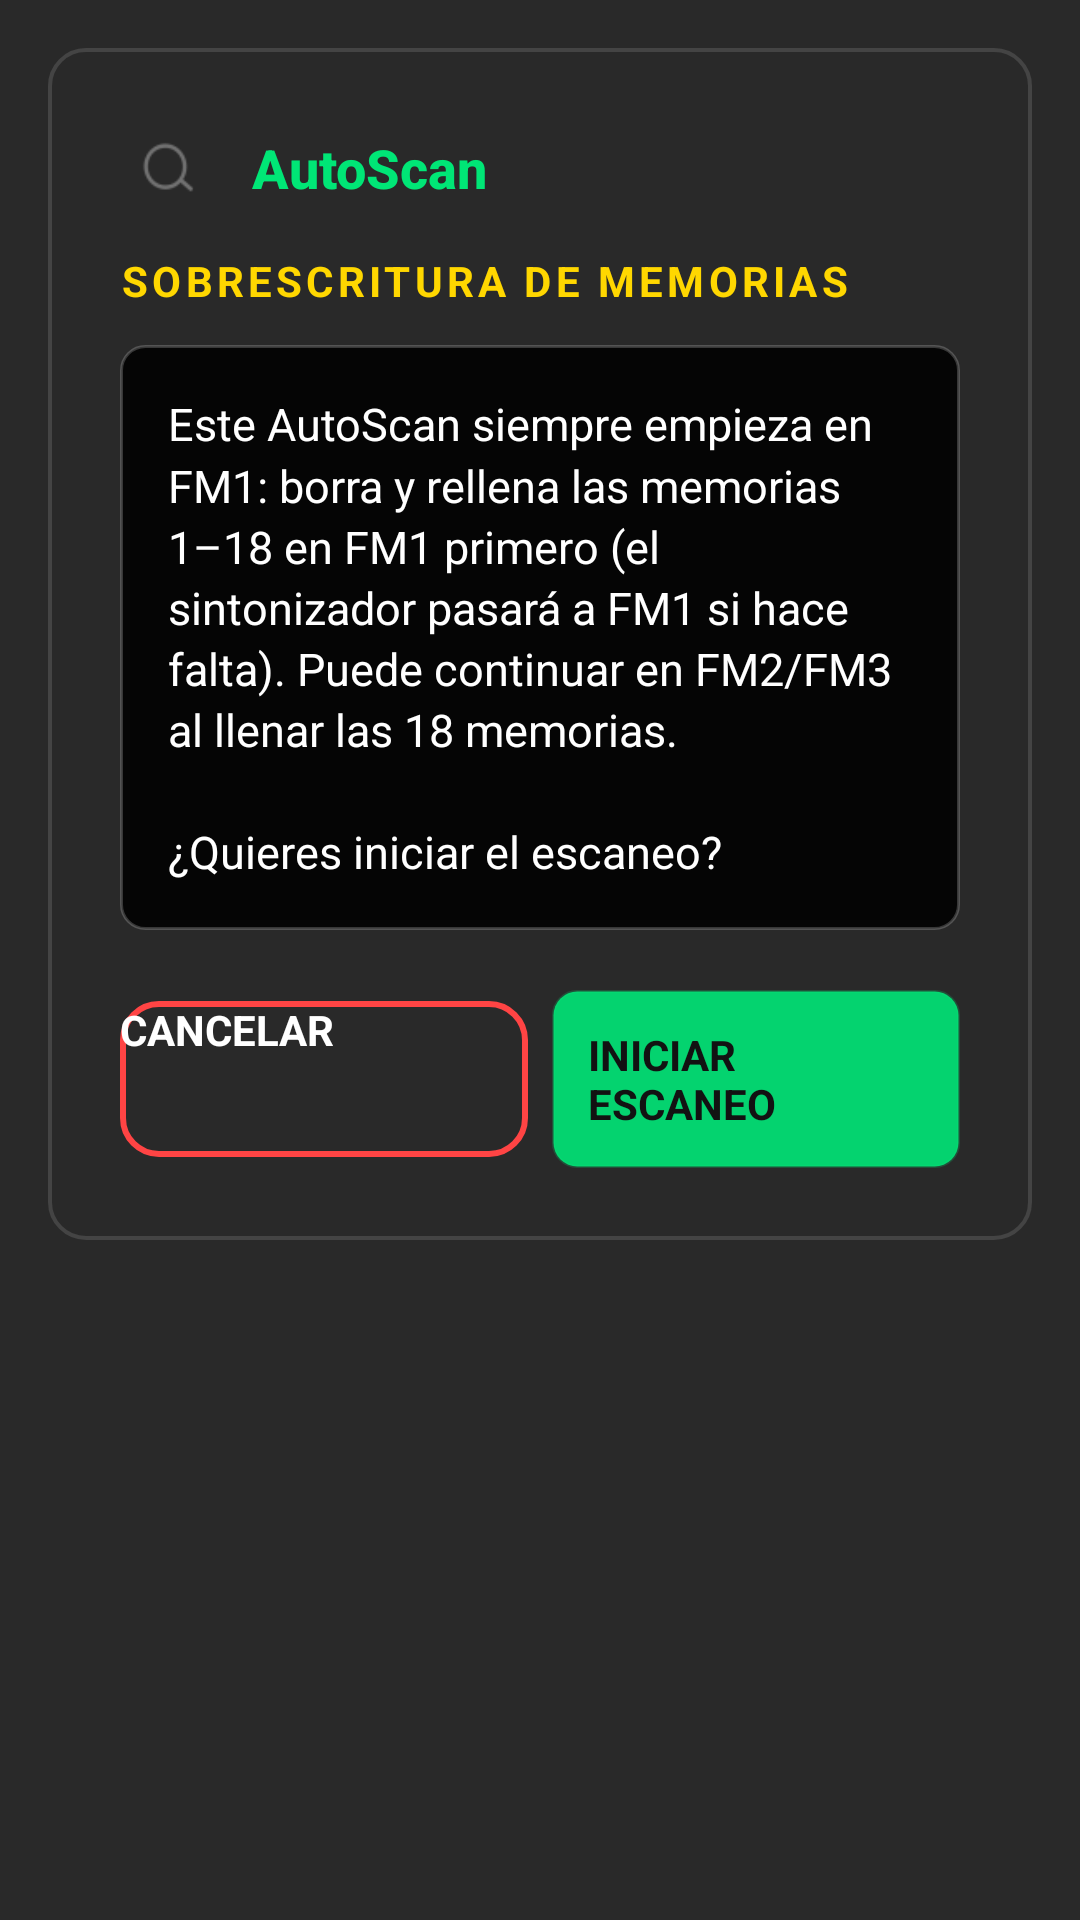

Where to tap for icons on this 1080w x 1920h app screen, as (x,y):
radio scan: (168,167)
